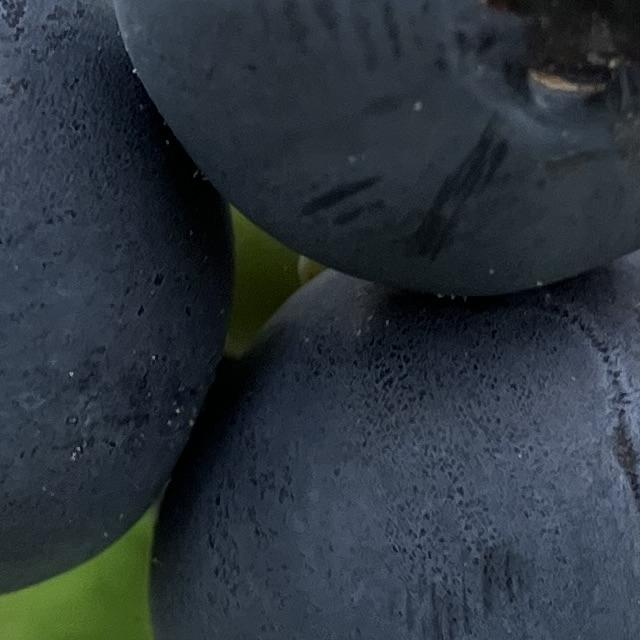Blueberries: (109, 0, 640, 284), (0, 0, 237, 617)
